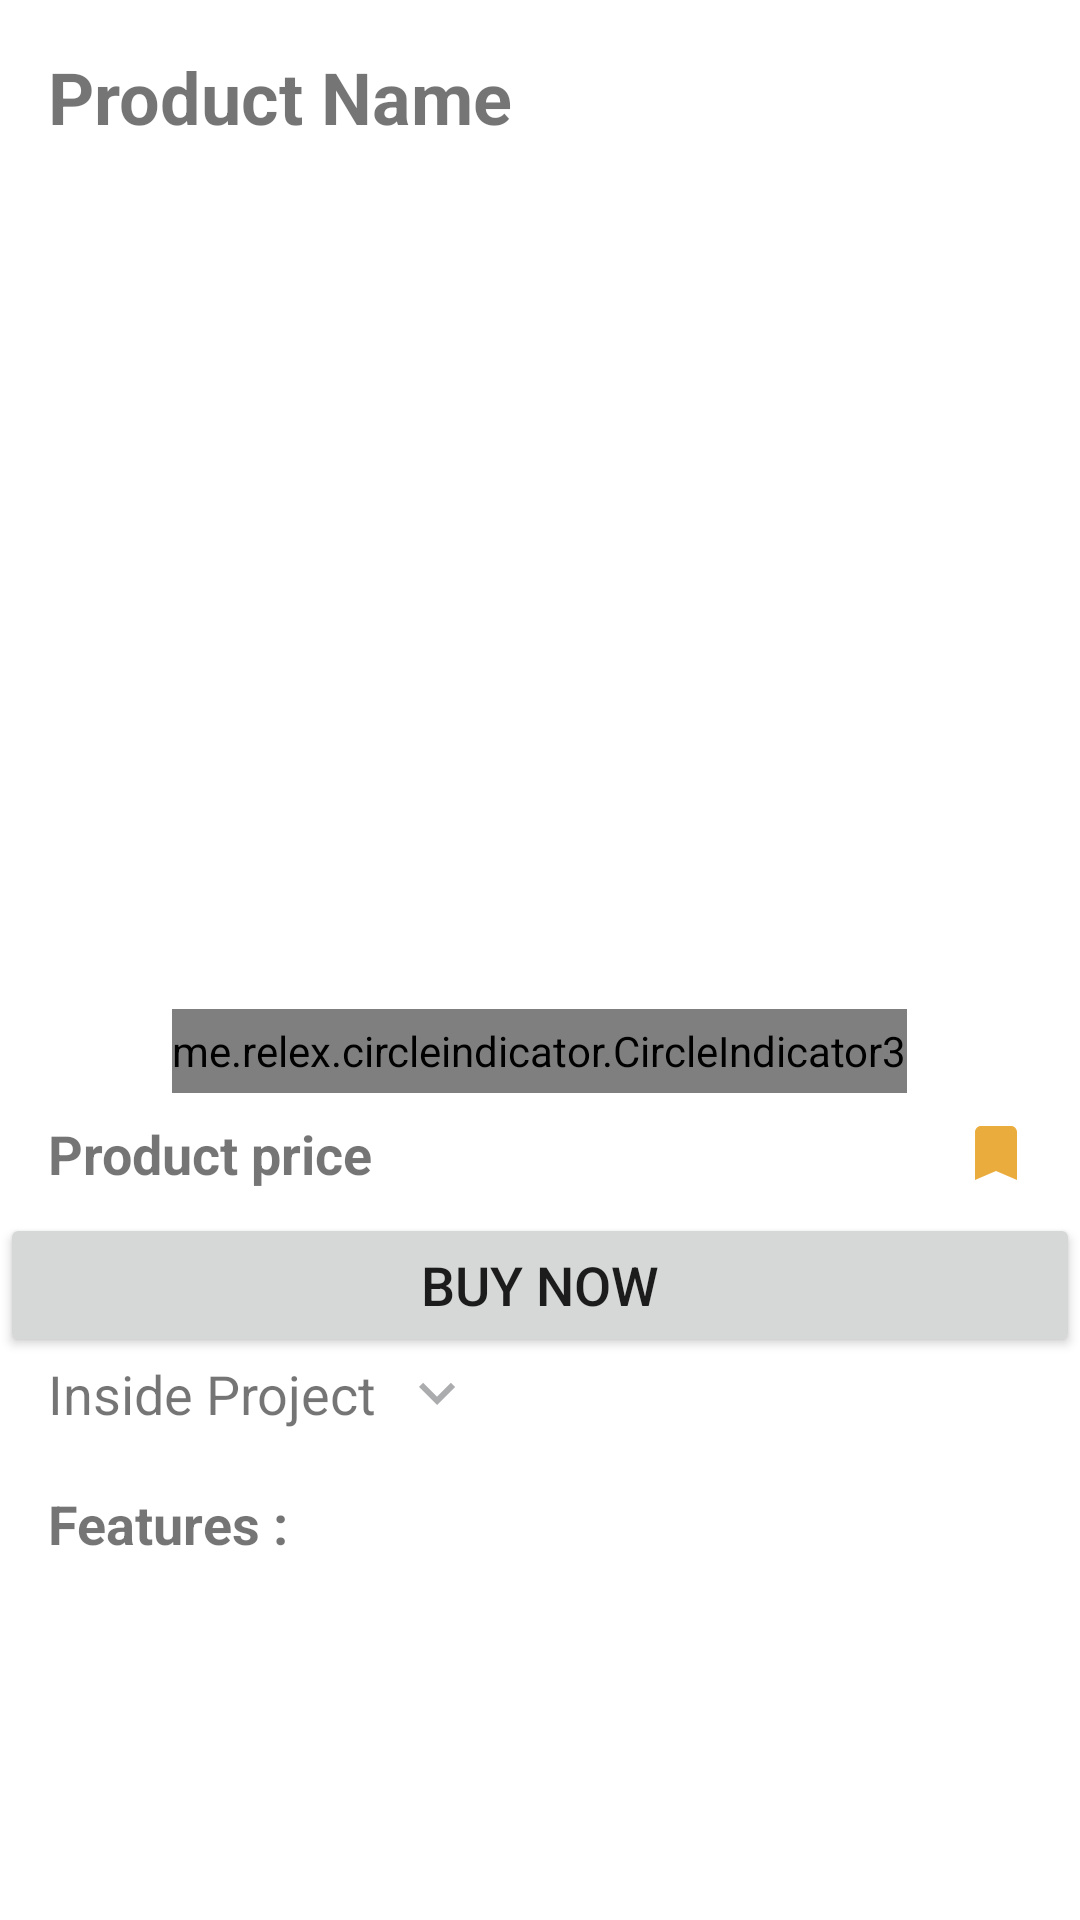

Screen size 1080w x 1920h. Icon name, then its center in pixels as [x,y]:
bookmark: [996,1153]
downarrow: [437,1394]
